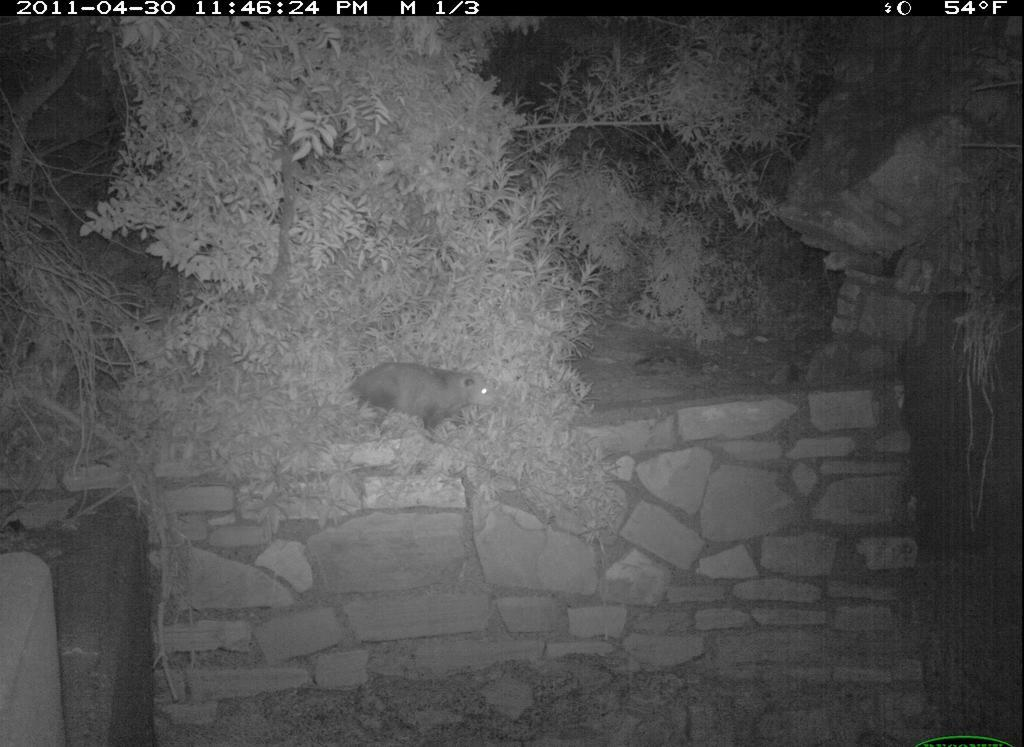opossum: (347, 340, 513, 441)
